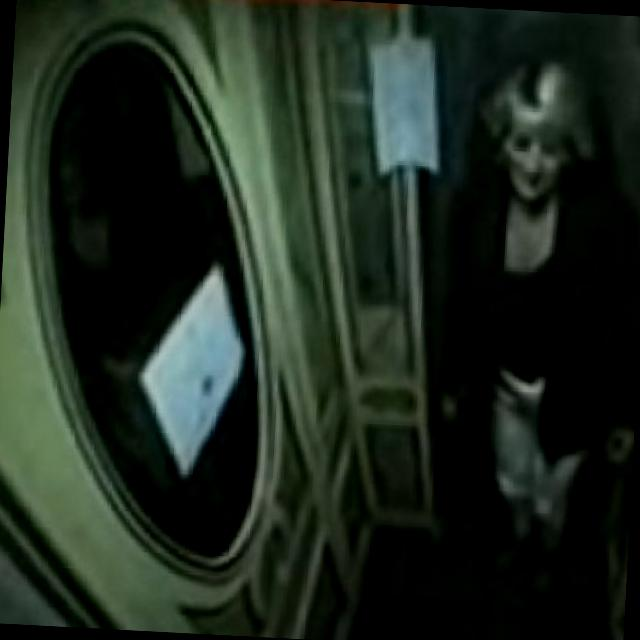Person: (419, 53, 640, 618)
